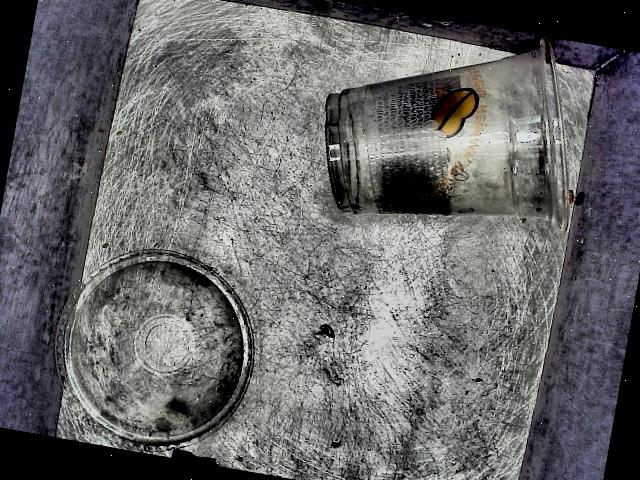Plastic: (301, 4, 604, 257), (37, 225, 269, 466)
